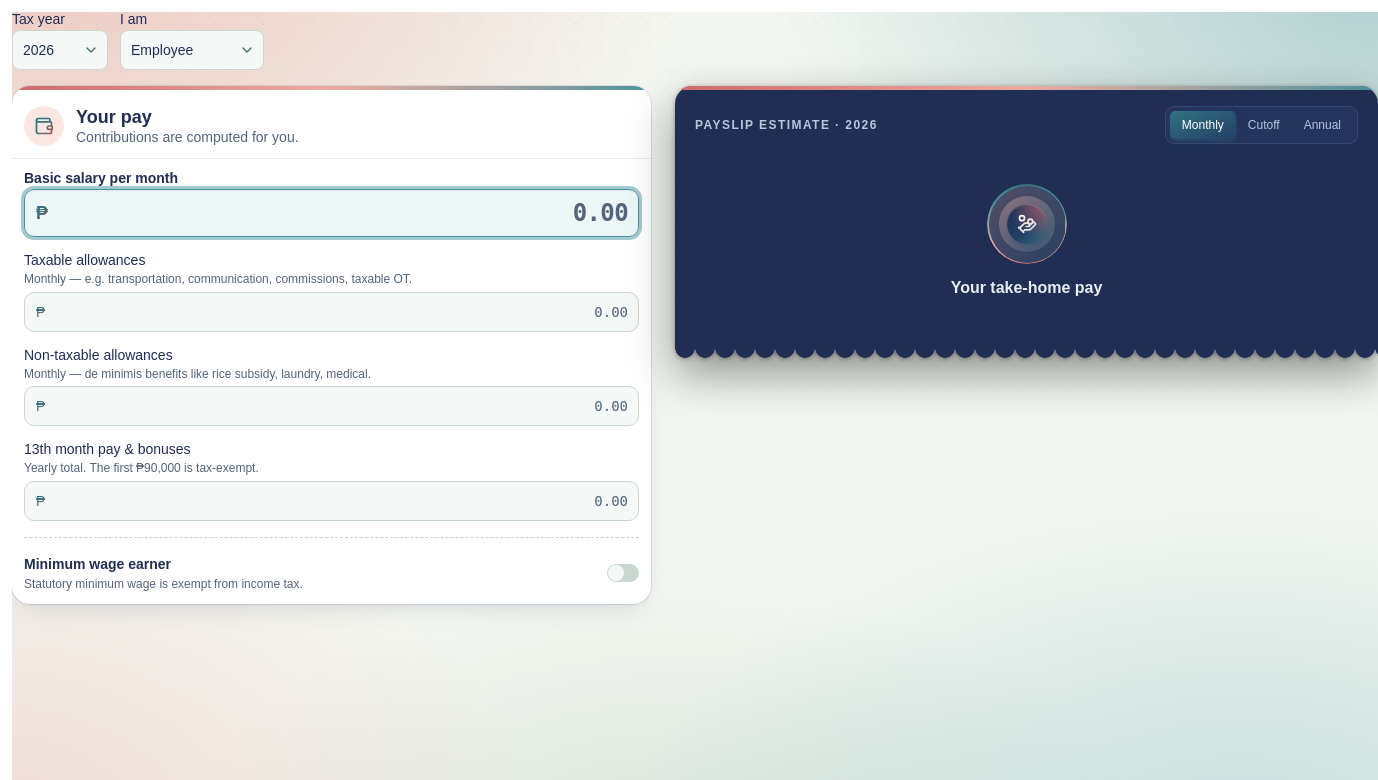
it: Monthly › keeps a typed 13th month when the salary later becomes the same amount
In the field labelled "Basic salary per month": (332, 213) x1=24 y1=189 x2=639 y2=237, type "35000"
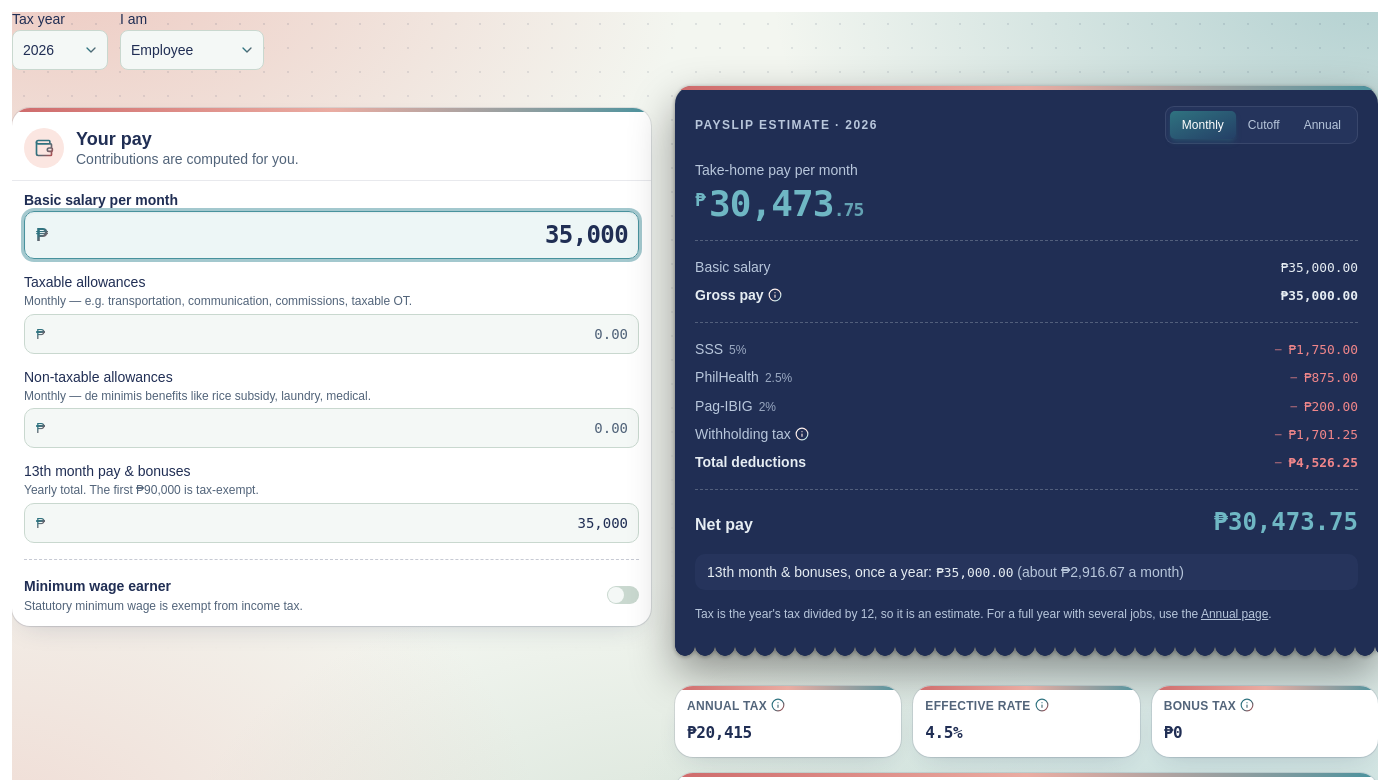
Replace the text in the field labelled "13th month pay & bonuses" with "90000": (332, 522) x1=24 y1=502 x2=639 y2=542
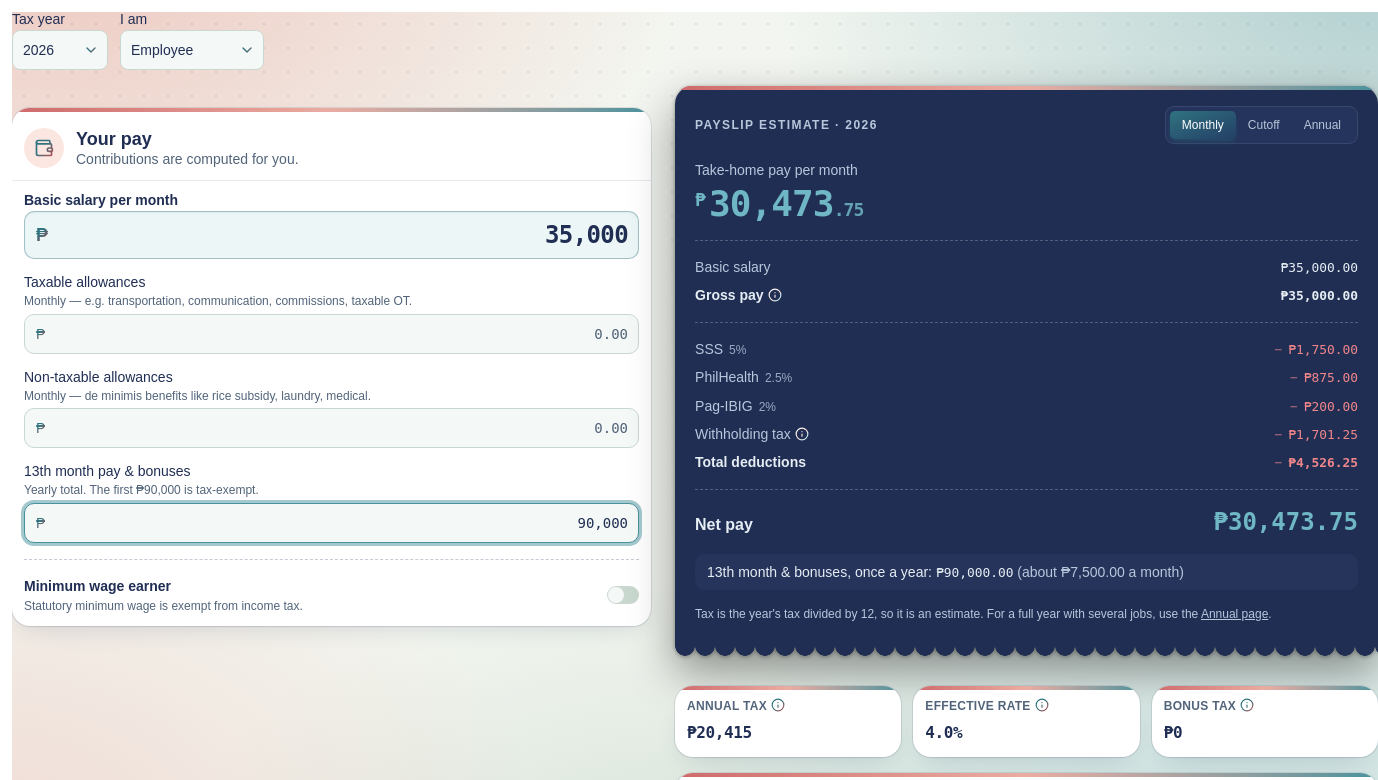
Clear the field labelled "Basic salary per month": (332, 235) x1=24 y1=211 x2=639 y2=259
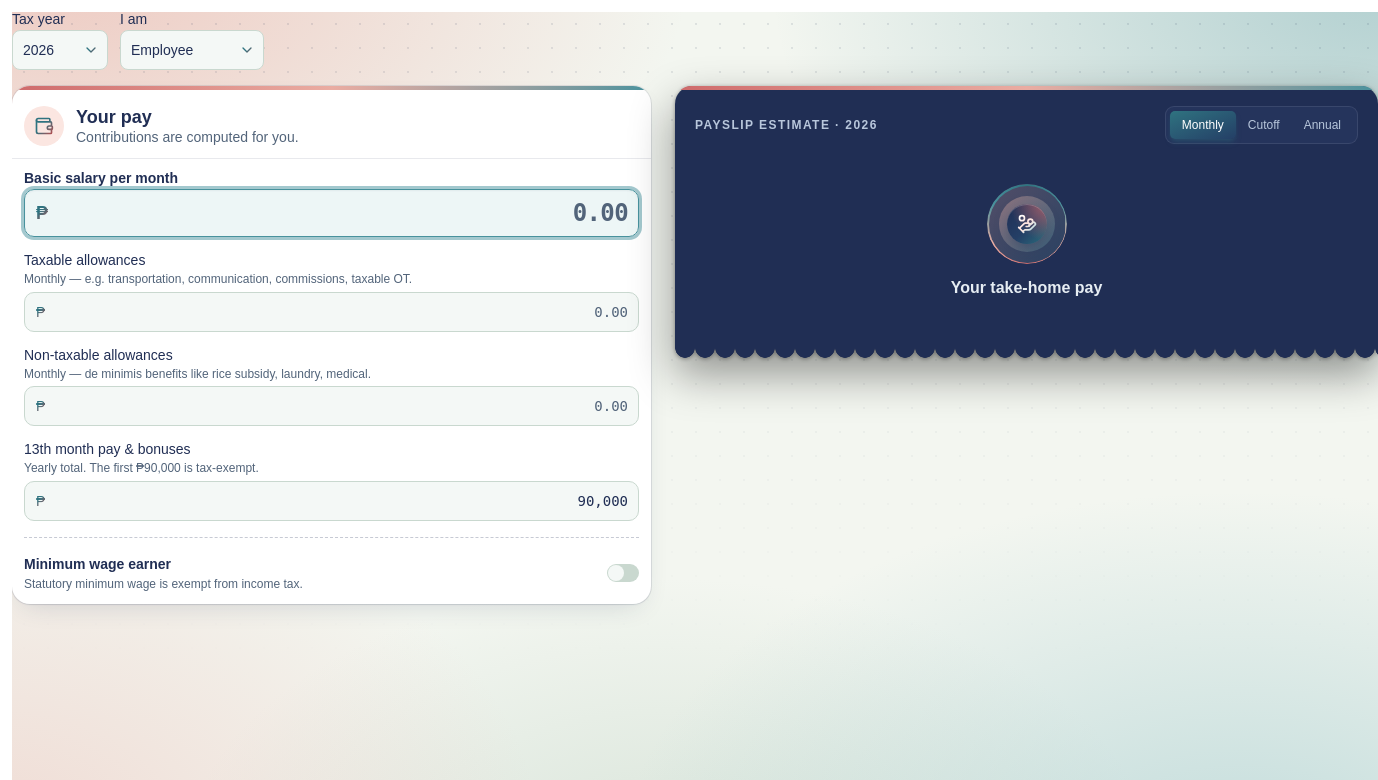
In the field labelled "Basic salary per month": (332, 213) x1=24 y1=189 x2=639 y2=237, type "90000"
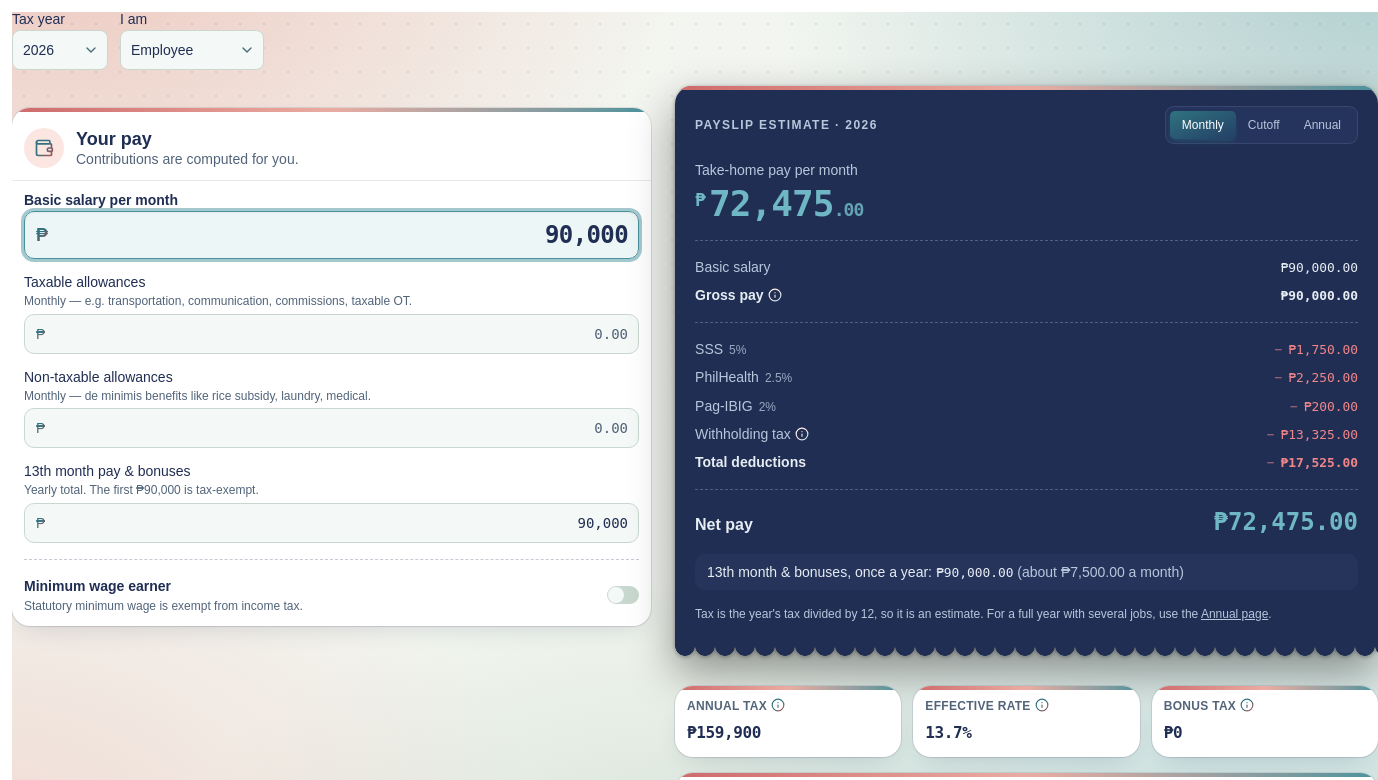
In the field labelled "Basic salary per month": (332, 235) x1=24 y1=211 x2=639 y2=259, type "0"
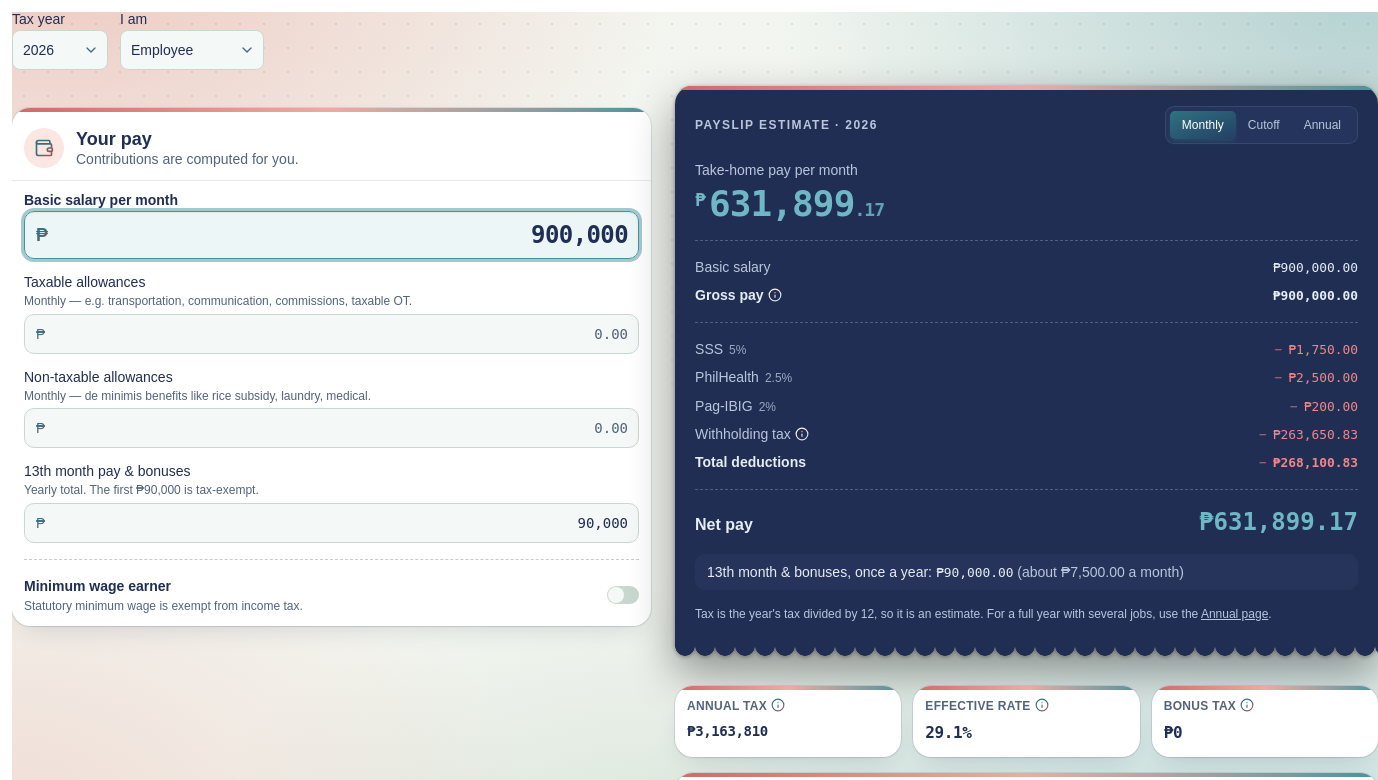
Now the field labelled "13th month pay & bonuses" holds "90,000", box x1=24 y1=502 x2=639 y2=542
Now the field labelled "Basic salary per month" holds "900,000", box x1=24 y1=211 x2=639 y2=259
